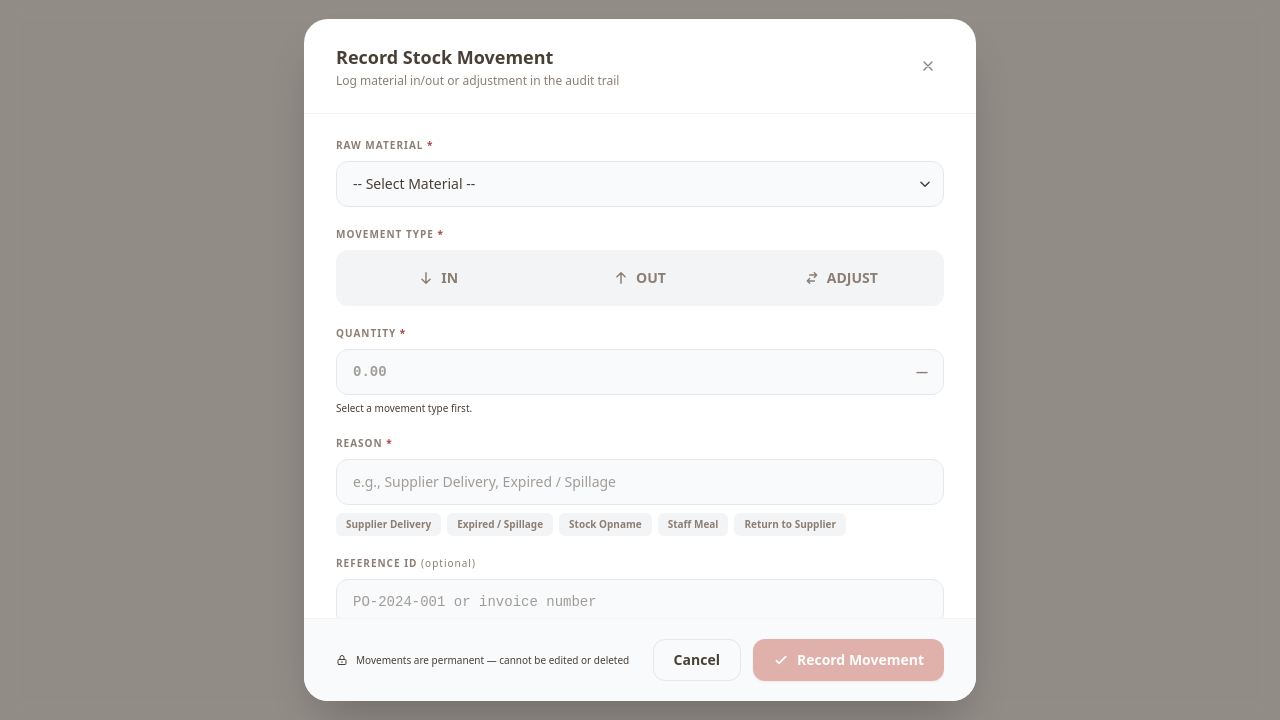
Test case: MovementFormModal.vue (Component Testing) › Quantity Hint › [Happy Path] hint untuk ADJUSTMENT
The image size is (1280, 720).
Click the button "ADJUST".
click(841, 278)  # box [745, 256, 938, 300]
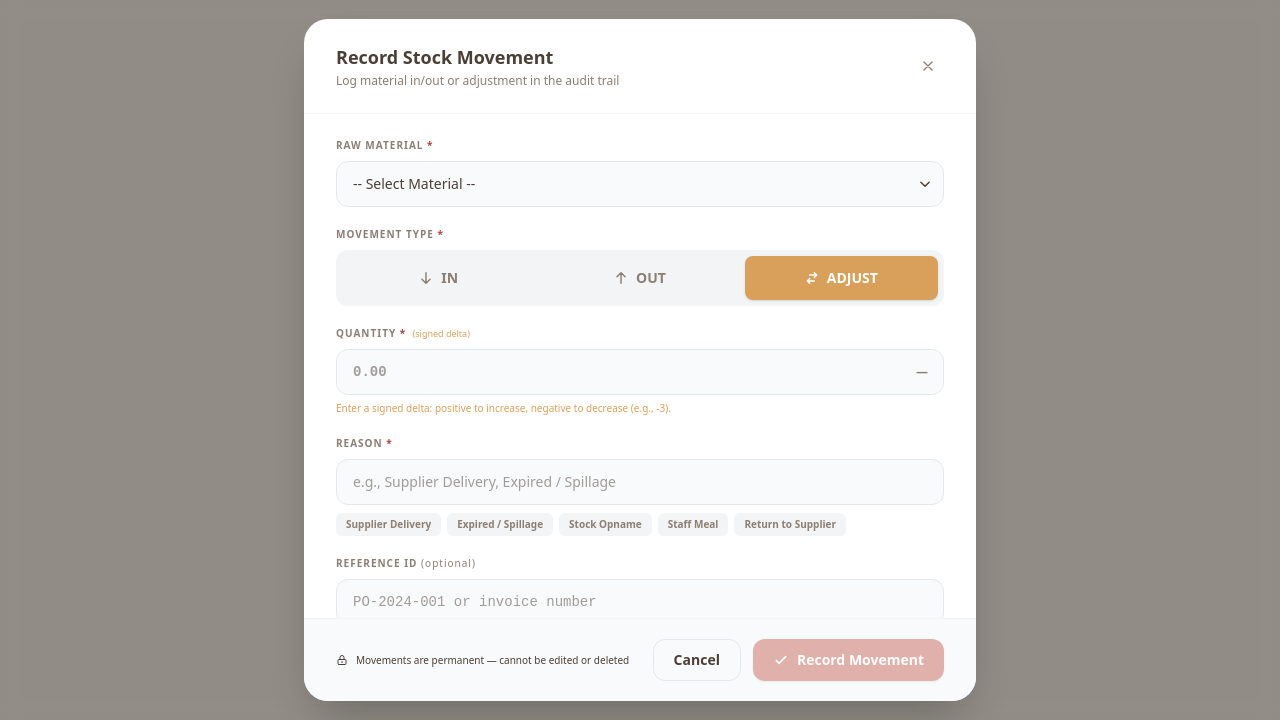
Now the text "Enter a signed delta" is shown, box [336, 401, 671, 415]
